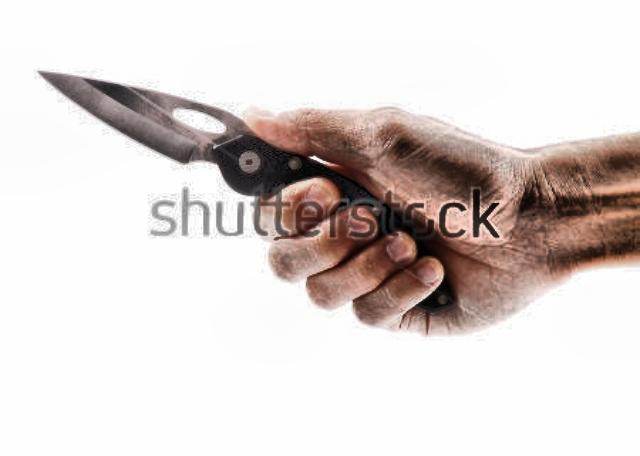knife: (30, 62, 324, 196)
